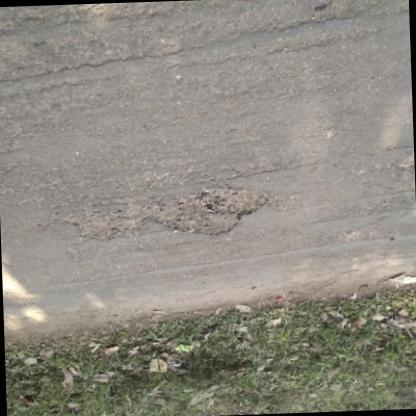pothole: (152, 186, 276, 236)
